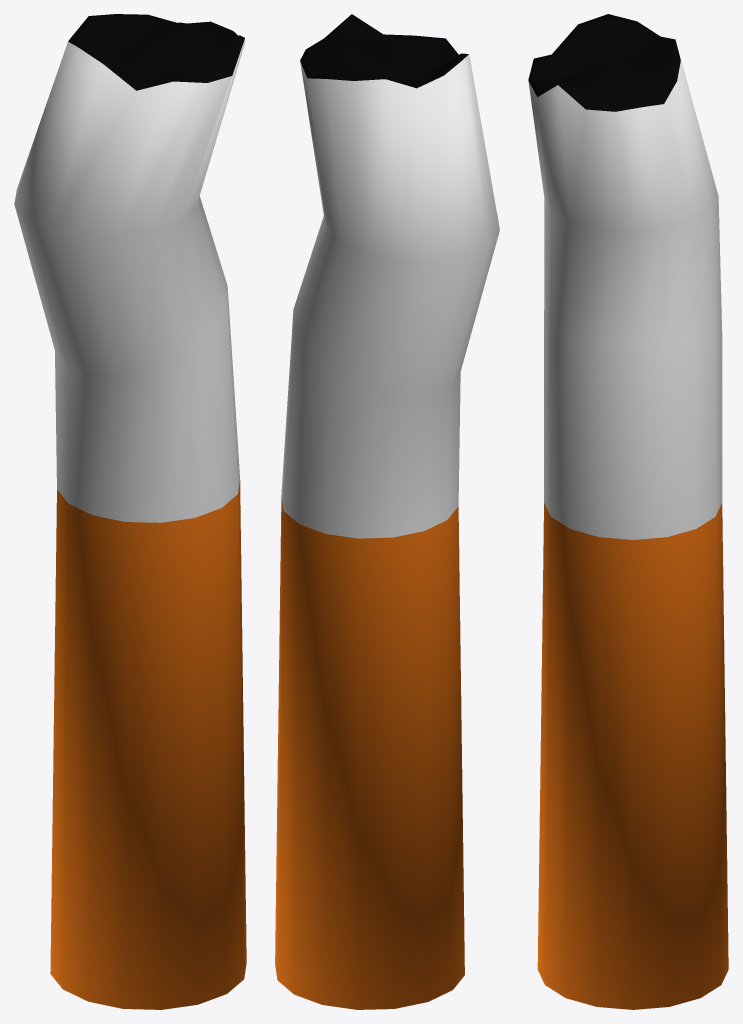
File: Sigarette.fbx
The picture shows the model from 3 angles, left to right: view 1: azimuth 30°, elevation 25°; view 2: azimuth 150°, elevation 25°; view 3: azimuth 270°, elevation 25°; orthographic projection. The views are drawn at different scales.
Visible parts, largest first — view 1: Cylinder.001; view 2: Cylinder.001; view 3: Cylinder.001.
Boxes of the visible parts, x1=… form: Cylinder.001: x1=14, y1=14, x2=246, y2=1009; Cylinder.001: x1=275, y1=14, x2=499, y2=1009; Cylinder.001: x1=528, y1=14, x2=728, y2=1009.
Bounding box in the file's own units: 1.25 × 5.43 × 1.07.
